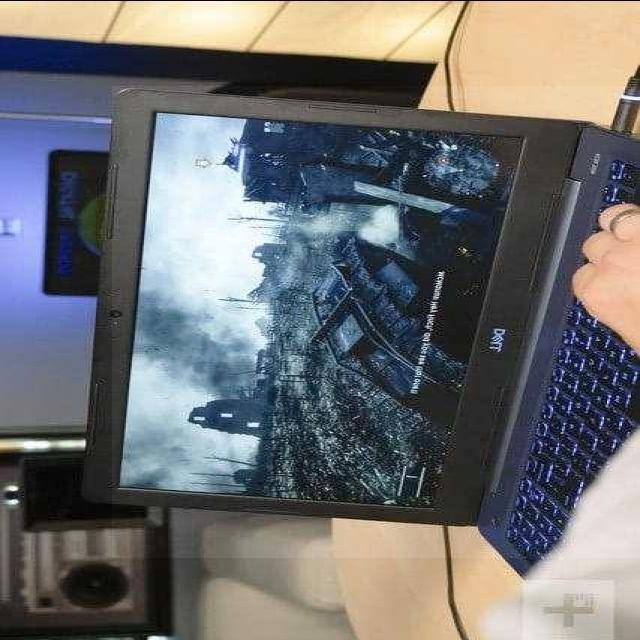-keyboard-: (112, 86, 640, 558)
